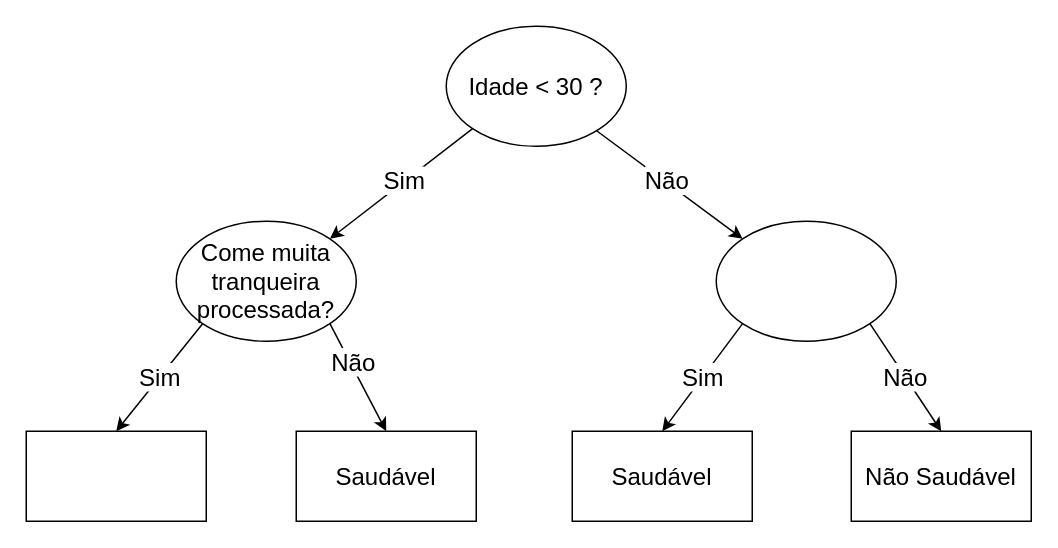
Image size: 1058x548. Some labels were removed from this diagram. The shapes that lost their labels are listed below. From the top down, each one's centre as x and y in pixels, then its label:
At point (805, 280): "Faz Exercícios?".
At point (115, 475): "Não-saudável".
